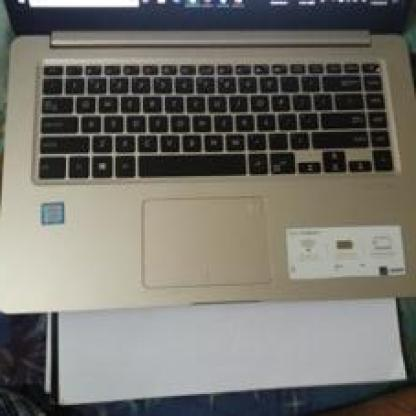keyboard: (19, 34, 408, 184)
